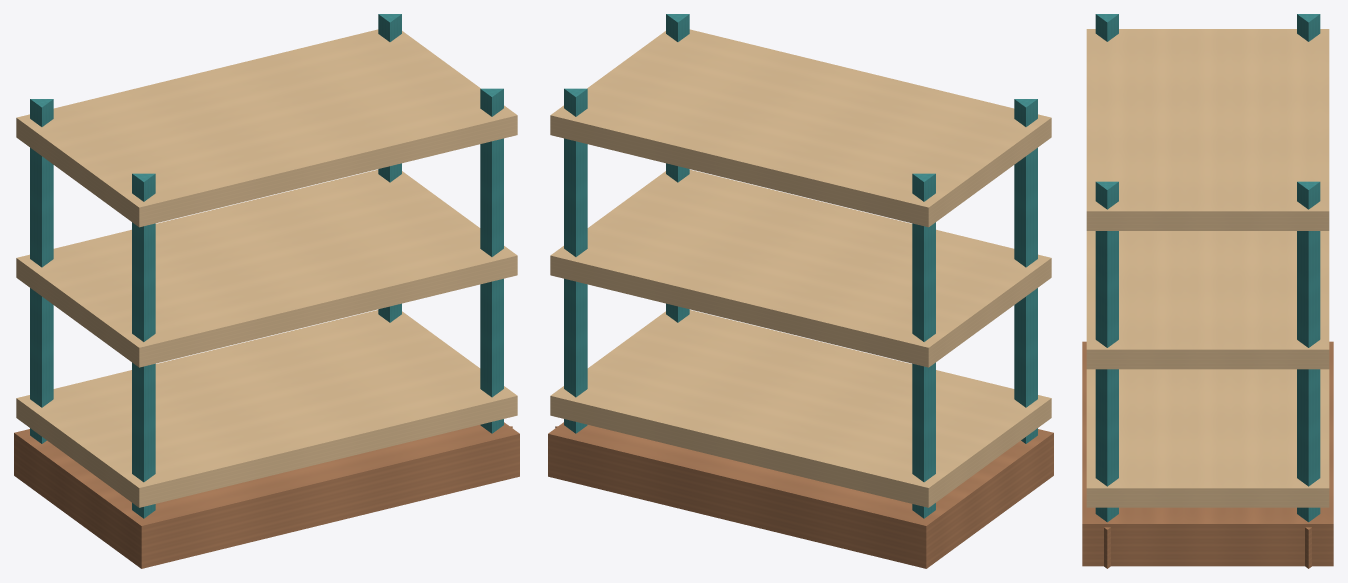
The model's file is atlas100-s097-a06.lod2.glb.
The picture shows the model from 3 angles, left to right: view 1: azimuth 30°, elevation 25°; view 2: azimuth 150°, elevation 25°; view 3: azimuth 270°, elevation 25°; orthographic projection.
Parts seen in each view (by area): view 1: atlas100-s097-a06:part-013, atlas100-s097-a06:part-012, atlas100-s097-a06:part-011, atlas100-s097-a06:part-000, atlas100-s097-a06:part-005, atlas100-s097-a06:part-009, atlas100-s097-a06:part-003, atlas100-s097-a06:part-007; view 2: atlas100-s097-a06:part-013, atlas100-s097-a06:part-012, atlas100-s097-a06:part-011, atlas100-s097-a06:part-000, atlas100-s097-a06:part-003, atlas100-s097-a06:part-007, atlas100-s097-a06:part-005, atlas100-s097-a06:part-009; view 3: atlas100-s097-a06:part-013, atlas100-s097-a06:part-012, atlas100-s097-a06:part-011, atlas100-s097-a06:part-000, atlas100-s097-a06:part-007, atlas100-s097-a06:part-009, atlas100-s097-a06:part-003, atlas100-s097-a06:part-005.
Boxes of the visible parts, x1,y1,x2,y2 form: atlas100-s097-a06:part-013: (16, 29, 517, 227); atlas100-s097-a06:part-012: (16, 169, 517, 367); atlas100-s097-a06:part-011: (16, 310, 517, 507); atlas100-s097-a06:part-000: (14, 422, 519, 568); atlas100-s097-a06:part-005: (132, 173, 155, 518); atlas100-s097-a06:part-009: (480, 88, 503, 433); atlas100-s097-a06:part-003: (30, 99, 53, 443); atlas100-s097-a06:part-007: (378, 14, 401, 322); atlas100-s097-a06:part-013: (550, 29, 1051, 227); atlas100-s097-a06:part-012: (550, 169, 1051, 367); atlas100-s097-a06:part-011: (550, 310, 1051, 507); atlas100-s097-a06:part-000: (548, 422, 1053, 568); atlas100-s097-a06:part-003: (912, 173, 935, 518); atlas100-s097-a06:part-007: (564, 88, 587, 433); atlas100-s097-a06:part-005: (1014, 99, 1037, 443); atlas100-s097-a06:part-009: (666, 14, 689, 322); atlas100-s097-a06:part-013: (1086, 29, 1329, 230); atlas100-s097-a06:part-012: (1086, 231, 1329, 369); atlas100-s097-a06:part-011: (1086, 369, 1329, 507); atlas100-s097-a06:part-000: (1082, 341, 1333, 566); atlas100-s097-a06:part-007: (1297, 181, 1320, 522); atlas100-s097-a06:part-009: (1095, 181, 1118, 522); atlas100-s097-a06:part-003: (1297, 14, 1320, 41); atlas100-s097-a06:part-005: (1095, 14, 1118, 41).
Bounding box in the file's own units: 2.43 × 2.3 × 1.4.
Materials: 3 (3 with a texture image).
